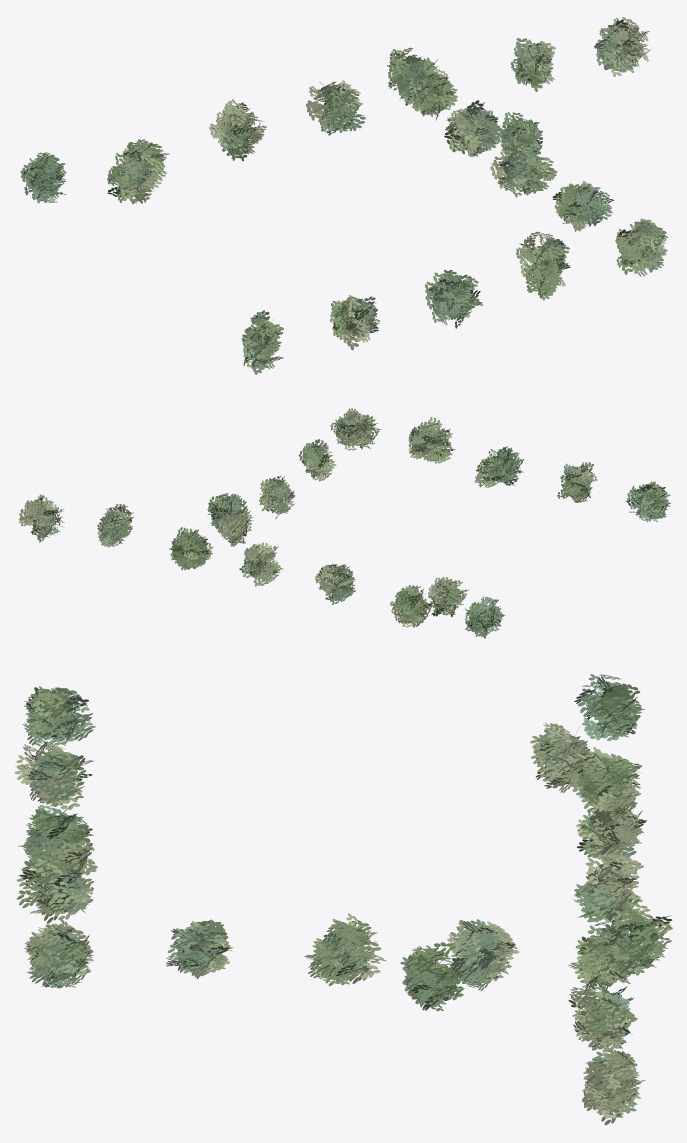
The model's file is campus-tree-0_-1-far-photo.glb.
3 views of the same model, one above another, from view 1: azimuth 30°, elevation 25°; view 2: azimuth 150°, elevation 25°; view 3: azimuth 270°, elevation 25° (orthographic). The views are drawn at different scales.
Visible parts, largest first — view 1: Campus leaf canopy; view 2: Campus leaf canopy; view 3: Campus leaf canopy.
Boxes of the visible parts, x1,y1,x2,y2 form: Campus leaf canopy: [20, 17, 668, 374]; Campus leaf canopy: [18, 408, 670, 638]; Campus leaf canopy: [14, 674, 672, 1125].
Size of the model in its own units: 73.89 by 8.04 by 51.73.
1 material, 1 textured.
